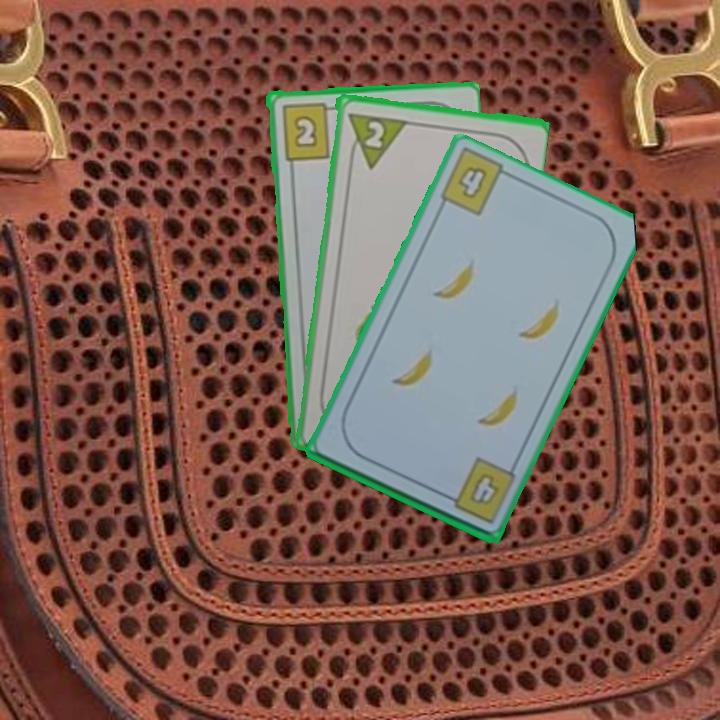2b: (278, 98, 339, 162)
2p: (361, 117, 387, 151)
4b: (438, 454, 515, 527), (454, 162, 490, 202)
